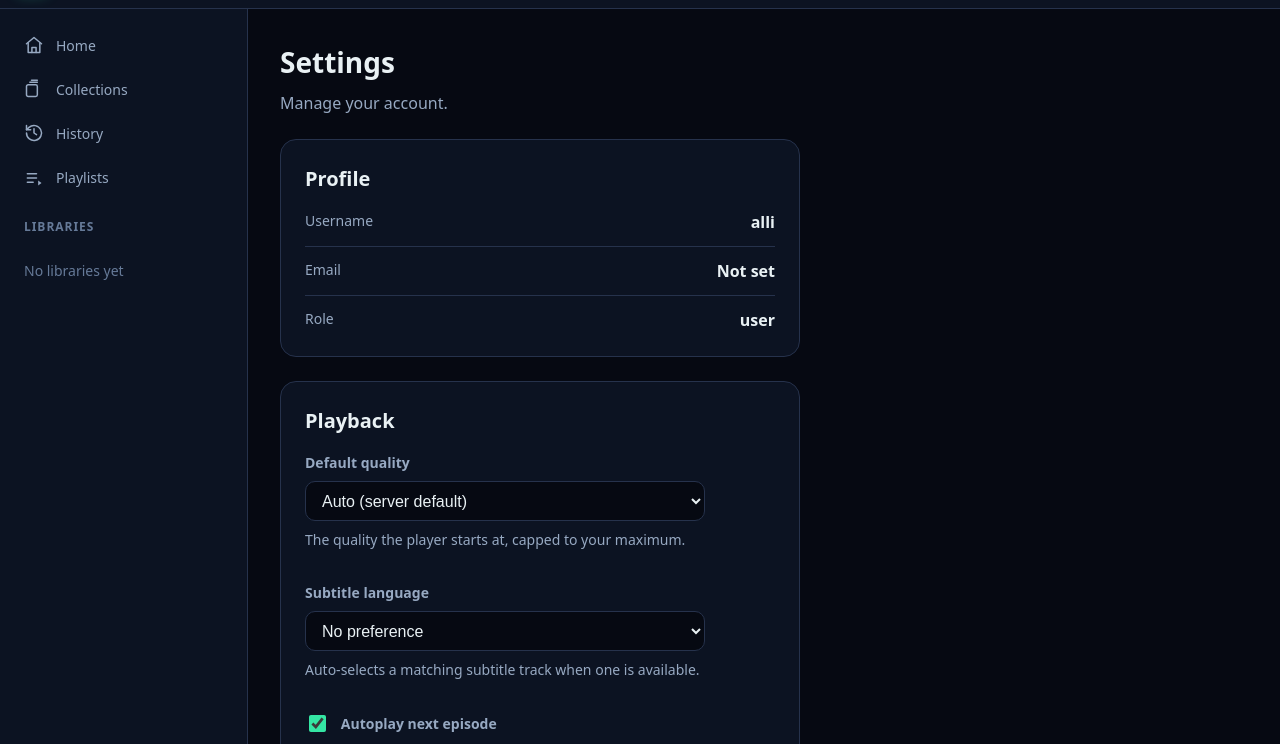
Test: SettingsPage — Playback preferences › saves only the changed fields via PATCH and shows success
This screenshot has width=1280, height=744.
Select "720p" in the dropdown labelled "Default quality" at [505, 501], box 305,481 -> 705,521
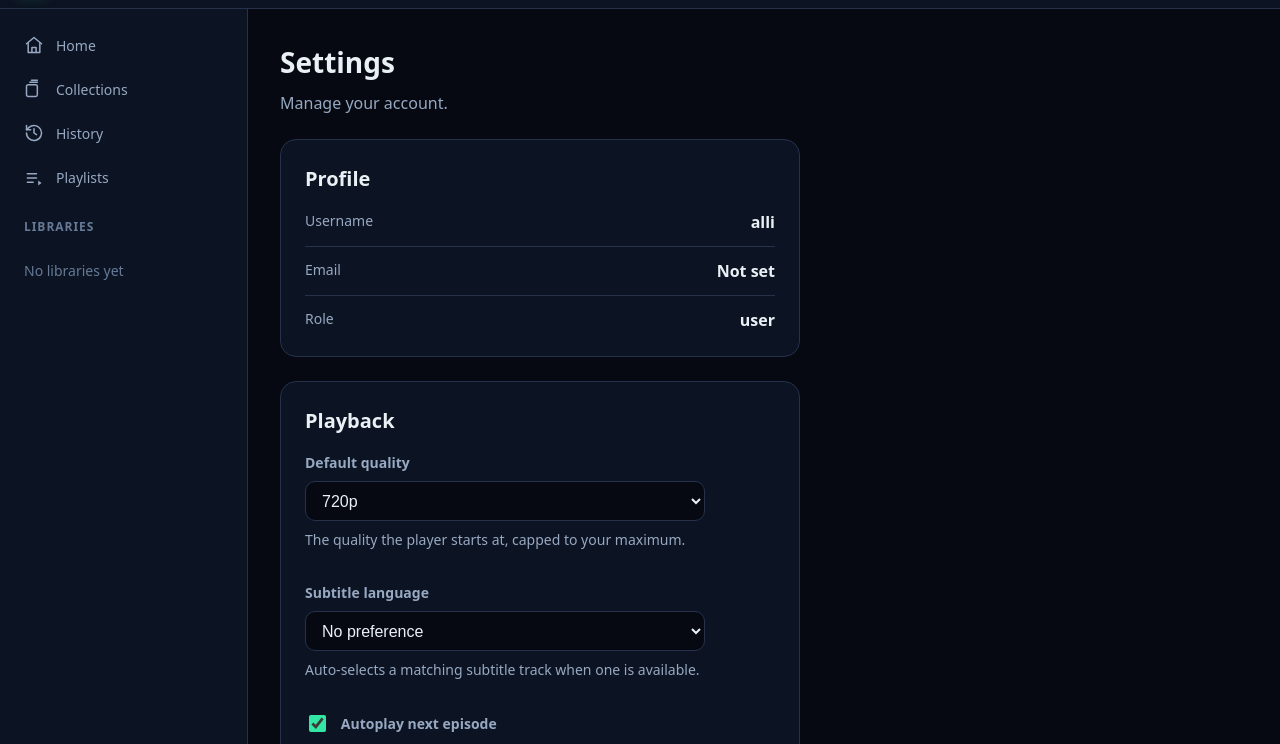
Click the checkbox labelled "Autoplay next episode" at [317, 724], box 309,715 -> 326,732
(page scrolled)
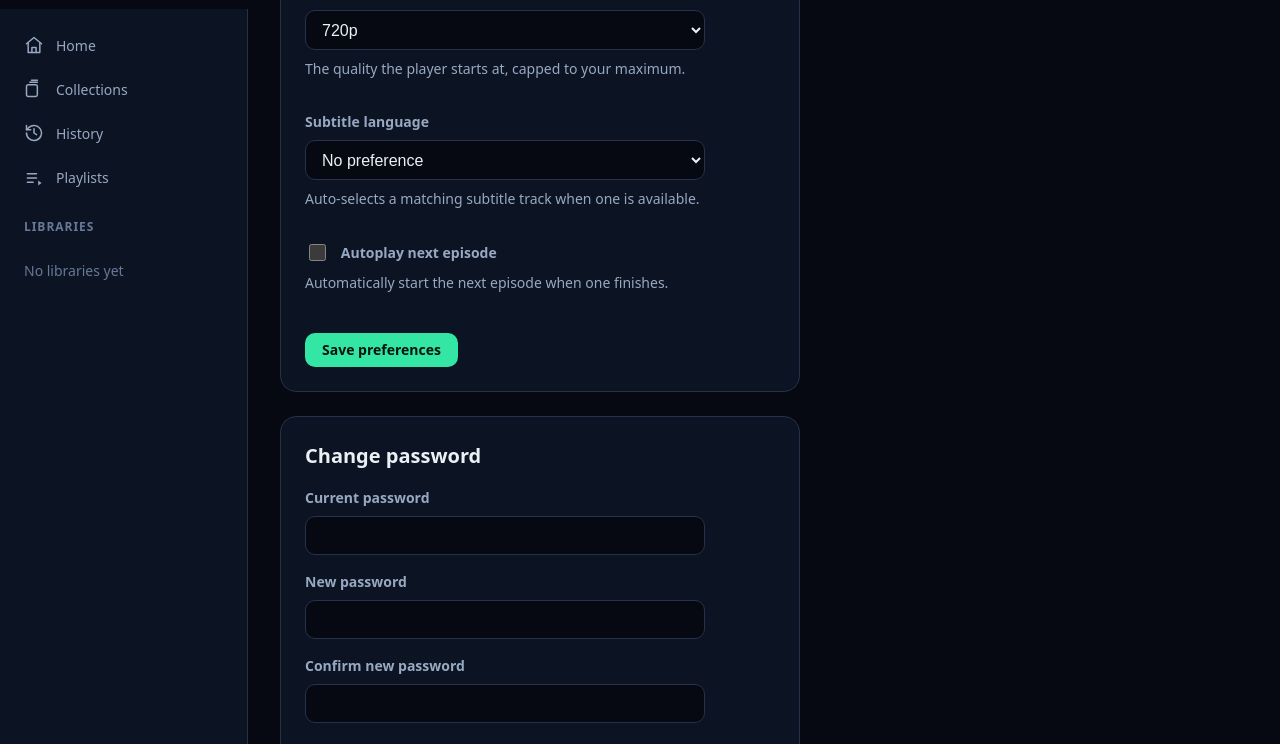
Click the button "Save preferences" at [381, 350], box 305,333 -> 458,367
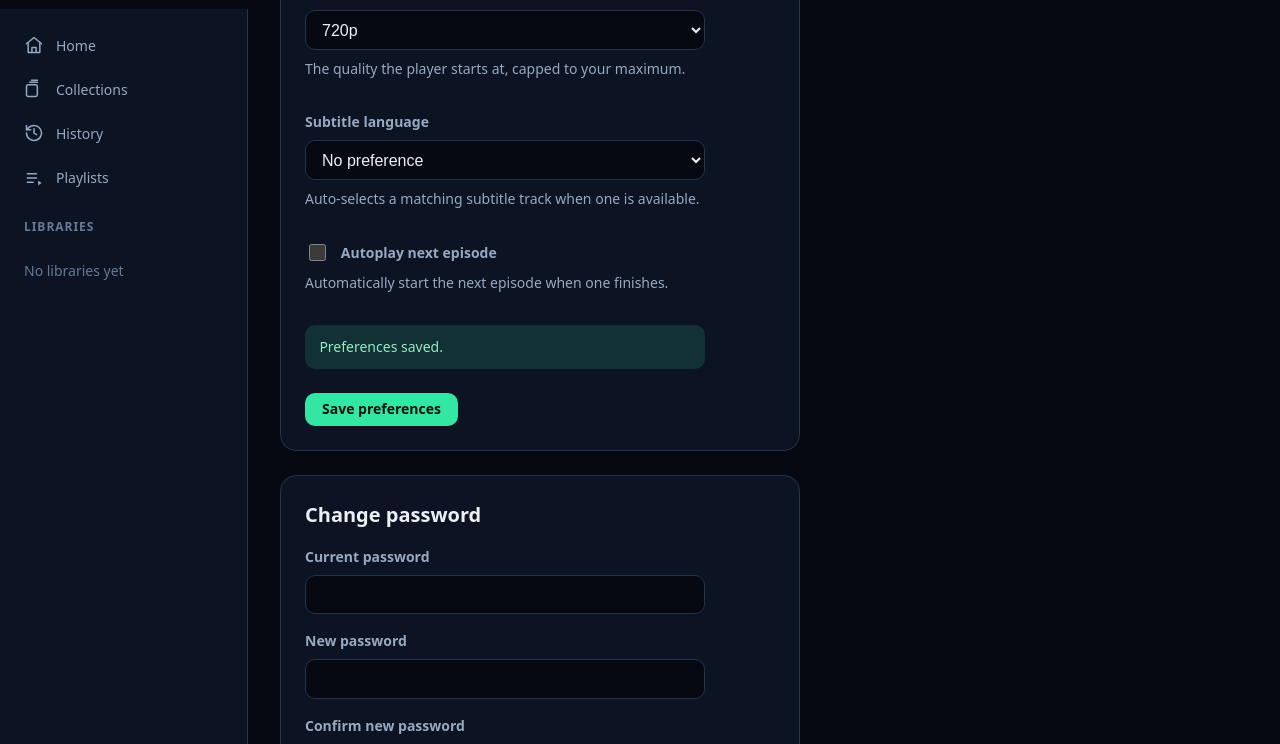
Now the text "Preferences saved." is shown, box 305,325 -> 705,369
